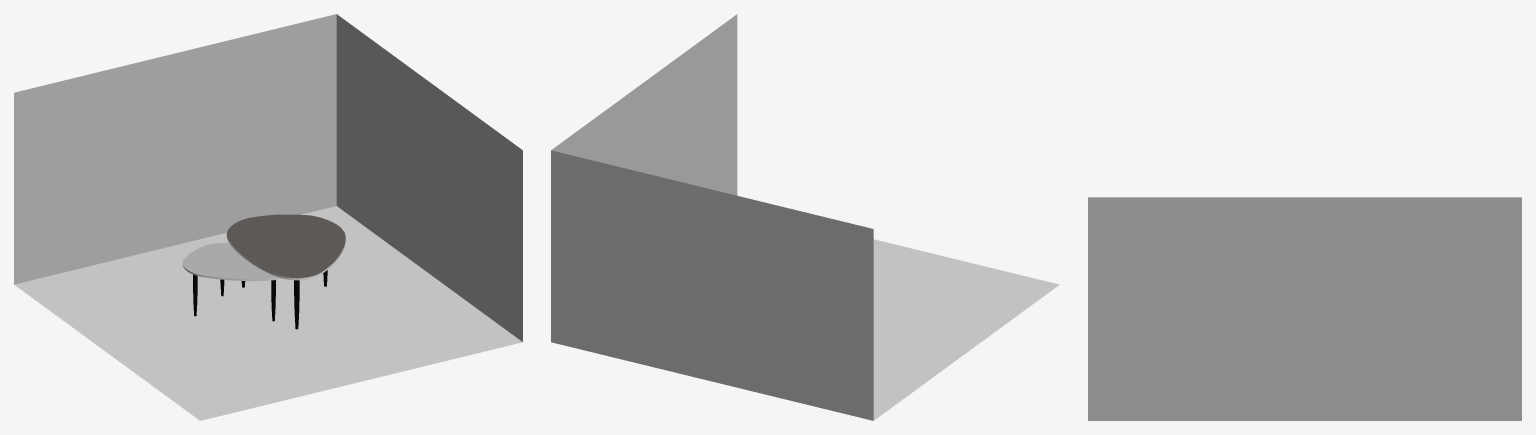
The model's file is tables.glb.
3 views of the same model, side by side, from view 1: azimuth 30°, elevation 25°; view 2: azimuth 150°, elevation 25°; view 3: azimuth 270°, elevation 25° (orthographic). The views are drawn at different scales.
Visible parts, largest first — view 1: Plane.002, Plane, Plane.001; view 2: Plane.002; view 3: Plane.002.
Boxes of the visible parts, x1,y1,x2,y2 form: Plane.002: [14, 14, 522, 420]; Plane: [226, 214, 345, 280]; Plane.001: [182, 242, 281, 281]; Plane.002: [551, 14, 1059, 420]; Plane.002: [1088, 197, 1521, 420].
Bounding box in the file's own units: 3.82 × 2.18 × 3.82.
Materials: 5 (2 with a texture image).
